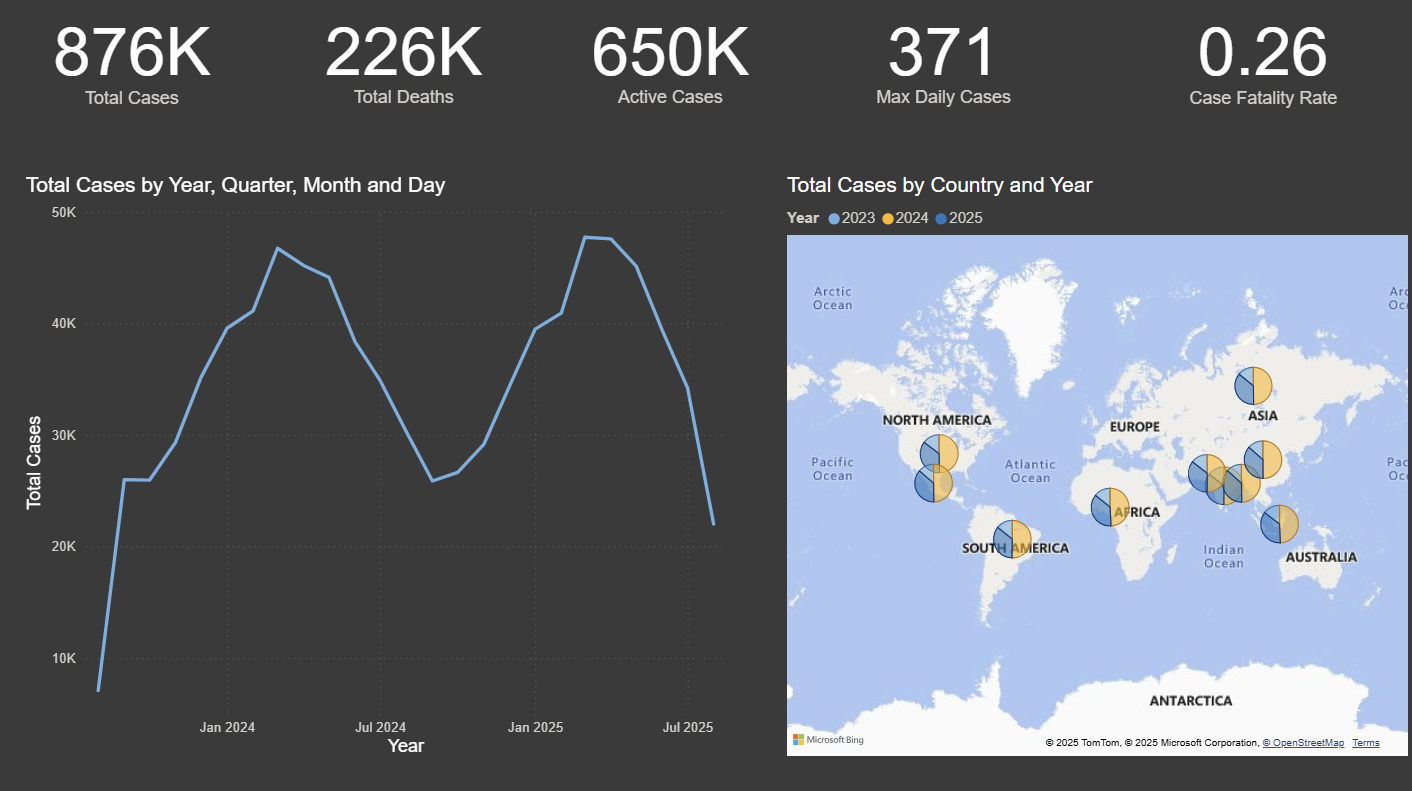

What the dashboard file says about the page in this screenshot:
{"tool":"powerbi","page":{"name":"Page 1","canvas":[1280,720],"ordinal":0},"visuals":[{"type":"card","fields":{"Values":["zoonotic_disease_data_20250823_150248.Total Deaths"]},"box":[237.1,0,247.1,111.4],"z":0},{"type":"card","fields":{"Values":["zoonotic_disease_data_20250823_150248.Total Cases"]},"box":[0,0,237.1,112.9],"z":1000},{"type":"card","fields":{"Values":["zoonotic_disease_data_20250823_150248.Active Cases"]},"box":[482.9,0,230,111.4],"z":2000},{"type":"card","fields":{"Values":["zoonotic_disease_data_20250823_150248.Max Daily Cases"]},"box":[711.4,0,260,111.4],"z":3000},{"type":"card","fields":{"Values":["zoonotic_disease_data_20250823_150248.Case Fatality Rate"]},"box":[971.4,0,308.6,112.9],"z":4000},{"type":"map","fields":{"Series":["zoonotic_disease_data_20250823_150248.Year"],"Size":["zoonotic_disease_data_20250823_150248.Total Cases"],"Category":["zoonotic_disease_data_20250823_150248.Country"]},"box":[697.1,160,562.9,524.3],"z":5000},{"type":"lineChart","fields":{"Y":["zoonotic_disease_data_20250823_150248.Total Cases"],"Category":["zoonotic_disease_data_20250823_150248.MonthYear.Variation.Date Hierarchy.Year","zoonotic_disease_data_20250823_150248.MonthYear.Variation.Date Hierarchy.Quarter","zoonotic_disease_data_20250823_150248.MonthYear.Variation.Date Hierarchy.Month","zoonotic_disease_data_20250823_150248.MonthYear.Variation.Date Hierarchy.Day"]},"box":[18.6,160,645.7,524.3],"z":6000}]}

Visuals, with their boxes in screenshot pixels (x1, y1, x2, y2), scaled from the page's 1280x720 canvas onto the 1412x791 screenshot:
card - zoonotic_disease_data_20250823_150248.Total Deaths: detection(262, 0, 534, 122)
card - zoonotic_disease_data_20250823_150248.Total Cases: detection(0, 0, 262, 124)
card - zoonotic_disease_data_20250823_150248.Active Cases: detection(533, 0, 786, 122)
card - zoonotic_disease_data_20250823_150248.Max Daily Cases: detection(785, 0, 1072, 122)
card - zoonotic_disease_data_20250823_150248.Case Fatality Rate: detection(1072, 0, 1411, 124)
map - zoonotic_disease_data_20250823_150248.Year x zoonotic_disease_data_20250823_150248.Total Cases: detection(769, 176, 1390, 752)
lineChart - zoonotic_disease_data_20250823_150248.Total Cases x zoonotic_disease_data_20250823_150248.MonthYear.Variation.Date Hierarchy.Year: detection(21, 176, 733, 752)
